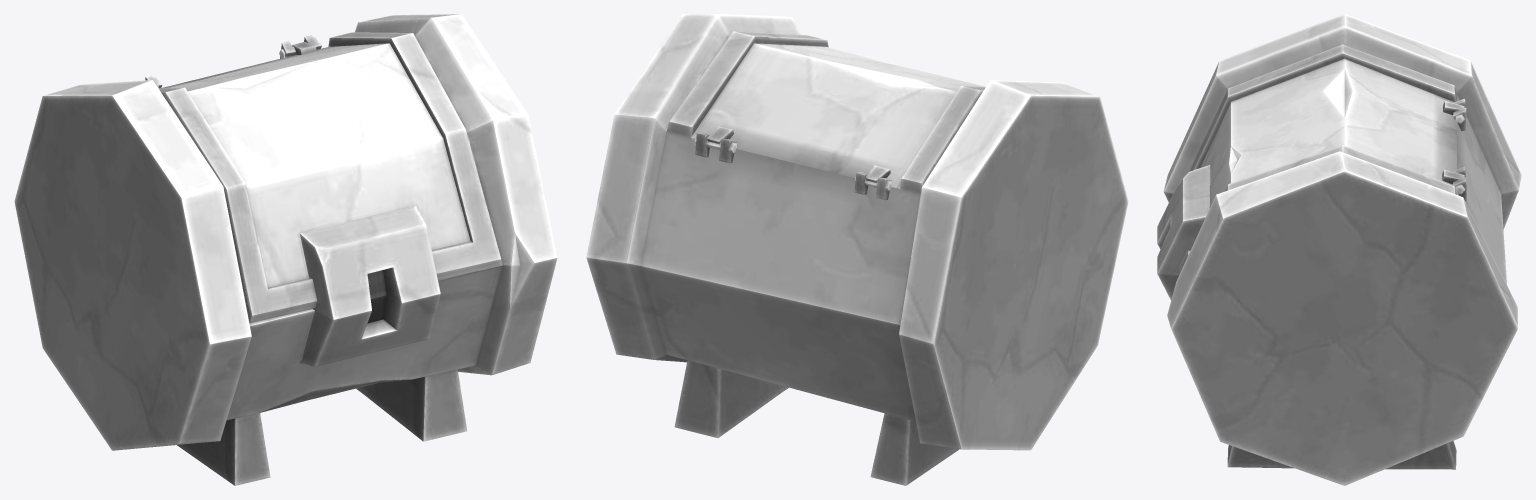
File: obj_chest03_alt.gltf
3 views of the same model, side by side, from view 1: azimuth 30°, elevation 25°; view 2: azimuth 150°, elevation 25°; view 3: azimuth 270°, elevation 25° (orthographic). The views are drawn at different scales.
Visible parts, largest first — view 1: obj_chest03_alt; view 2: obj_chest03_alt; view 3: obj_chest03_alt.
Boxes of the visible parts, <box> form: obj_chest03_alt: <box>14,14,557,485</box>; obj_chest03_alt: <box>586,14,1128,485</box>; obj_chest03_alt: <box>1157,14,1521,485</box>.
Size of what is drawn, in the model's own units: 0.8008 by 0.7994 by 0.799.
1 material, 1 textured.
